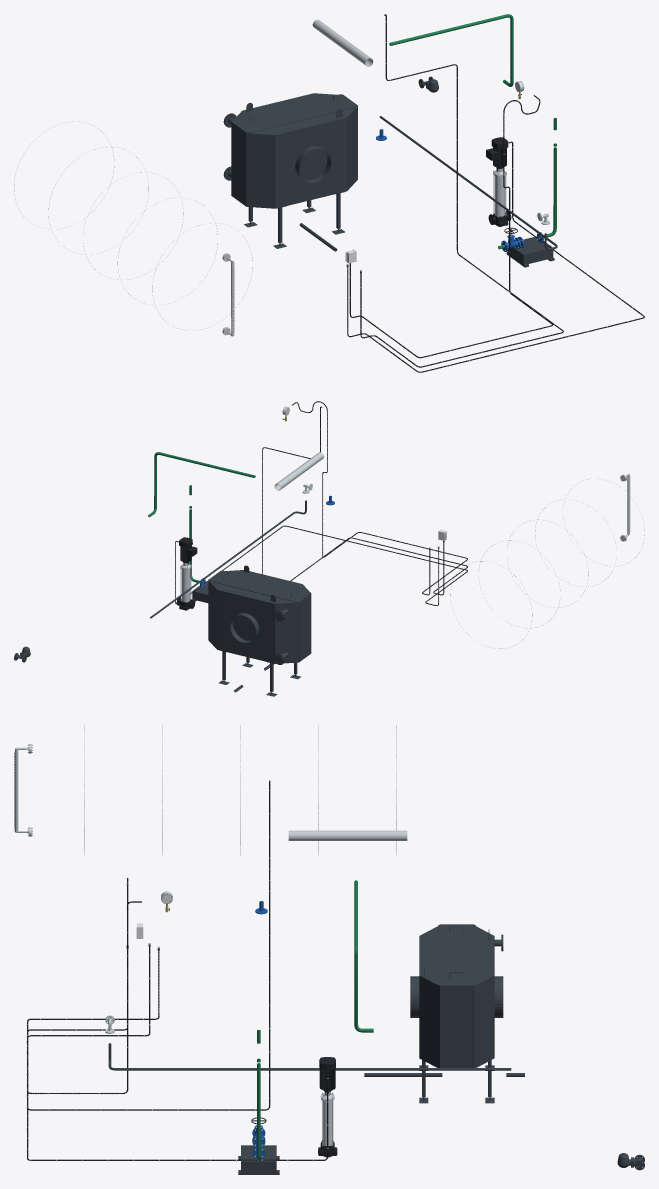
The model's file is s4000-2-CJl_DHGM.glb.
3 views of the same model, one above another, from view 1: azimuth 30°, elevation 25°; view 2: azimuth 150°, elevation 25°; view 3: azimuth 270°, elevation 25° (orthographic). The views are drawn at different scales.
Parts seen in each view (by area): view 1: EQS2-3000 CAD 0, EQS2-3000 CAD 3, EQS2-3000 CAD 1, gpz_drive_cable / black, wiring_pump_2 / black, wiring_pressure_switch_3 / black, pump_branch_1 / dark, deaerator_details / steel, to_direct / green, steam_delivery / steel, tds_common / dark, pump_2 CAD solid 15; view 2: EQS2-3000 CAD 0, EQS2-3000 CAD 3, EQS2-3000 CAD 2, gpz_drive_cable / black, wiring_pressure_switch_3 / black, wiring_pump_2 / black, deaerator_details / steel, to_direct / green, steam_delivery / steel, tds_common / dark; view 3: EQS2-3000 CAD 3, gpz_drive_cable / black, steam_delivery / steel, EQS2-3000 CAD 0, wiring_pump_2 / black, tds_common / dark, deaerator_details / steel, wiring_pressure_switch_3 / black, pump_branch_1 / dark, to_direct / green.
Boxes of the visible parts, x1,y1,x2,y2 form: EQS2-3000 CAD 0: (244,118,347,248); EQS2-3000 CAD 3: (231,93,357,206); EQS2-3000 CAD 1: (246,133,275,208); gpz_drive_cable / black: (360,14,563,367); wiring_pump_2 / black: (347,141,644,372); wiring_pressure_switch_3 / black: (349,95,553,358); pump_branch_1 / dark: (506,236,554,267); deaerator_details / steel: (14,121,252,336); to_direct / green: (389,14,513,86); steam_delivery / steel: (312,19,373,66); tds_common / dark: (379,116,557,250); pump_2 CAD solid 15: (486,137,508,168); EQS2-3000 CAD 0: (217,590,300,696); EQS2-3000 CAD 3: (208,565,311,662); EQS2-3000 CAD 2: (274,602,298,664); gpz_drive_cable / black: (262,406,467,595); wiring_pressure_switch_3 / black: (292,401,467,595); wiring_pump_2 / black: (175,525,467,605); deaerator_details / steel: (450,473,644,648); to_direct / green: (148,452,255,517); steam_delivery / steel: (274,452,323,490); tds_common / dark: (150,500,306,618); EQS2-3000 CAD 3: (419,924,494,1067); gpz_drive_cable / black: (27,780,270,1110); steam_delivery / steel: (288,830,407,840); EQS2-3000 CAD 0: (410,976,503,1103); wiring_pump_2 / black: (27,947,328,1160); tds_common / dark: (108,1043,511,1070); deaerator_details / steel: (14,725,396,855); wiring_pressure_switch_3 / black: (27,878,159,1093); pump_branch_1 / dark: (238,1145,279,1174); to_direct / green: (354,880,373,1032).
Size of the model in its own units: 7.46 by 3.71 by 6.88.
